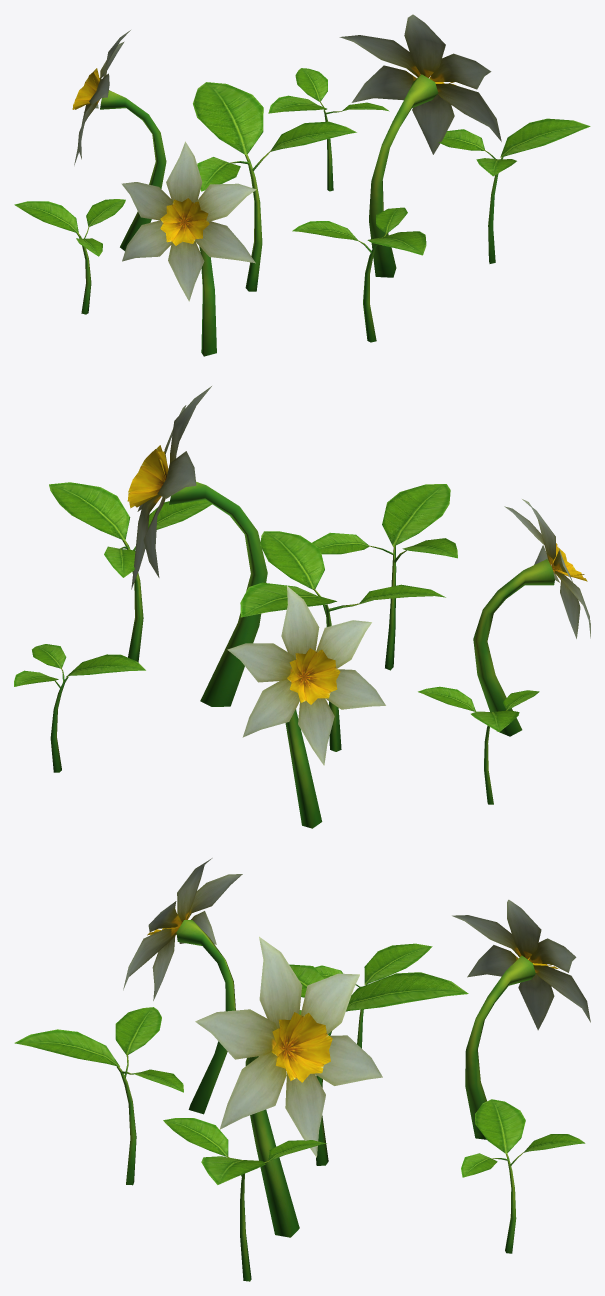
File: flower_08.glb
The picture shows the model from 3 angles, top to bottom: view 1: azimuth 30°, elevation 25°; view 2: azimuth 150°, elevation 25°; view 3: azimuth 270°, elevation 25°; orthographic projection. The views are drawn at different scales.
Visible parts, largest first — view 1: flower_08; view 2: flower_08; view 3: flower_08.
Boxes of the visible parts, x1,y1,x2,y2 form: flower_08: [14, 14, 590, 356]; flower_08: [14, 386, 590, 828]; flower_08: [14, 858, 590, 1281].
Bounding box in the file's own units: 4.47 × 2.34 × 4.
1 material, 1 textured.
